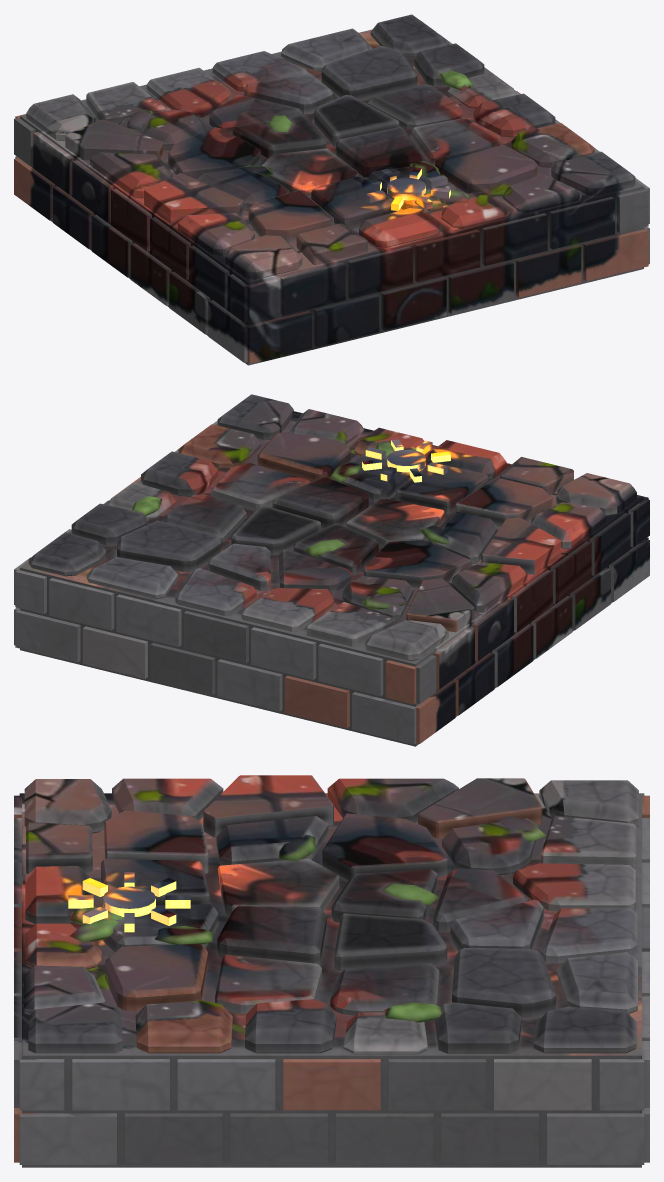
File: brazier_plate.glb
3 renders of one model, top to bottom at view 1: azimuth 30°, elevation 25°; view 2: azimuth 150°, elevation 25°; view 3: azimuth 270°, elevation 25°, orthographic. The views are drawn at different scales.
Parts seen in each view (by area): view 1: brazier_plate; view 2: brazier_plate; view 3: brazier_plate.
Part boxes in pixels (<box>): brazier_plate: <box>14,14,649,365</box>; brazier_plate: <box>14,394,649,746</box>; brazier_plate: <box>14,775,649,1167</box>.
Bounding box in the file's own units: 2.01 × 0.484 × 2.01.
Materials: 1 (1 with a texture image).
